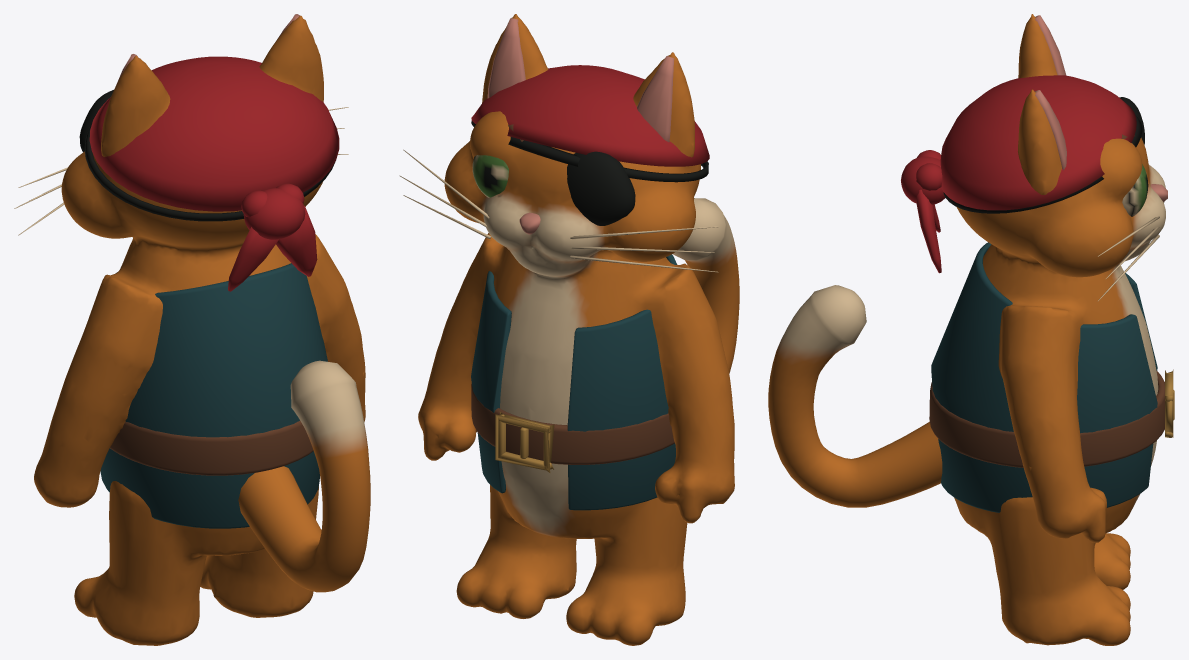
The picture shows the model from 3 angles, left to right: view 1: azimuth 30°, elevation 25°; view 2: azimuth 150°, elevation 25°; view 3: azimuth 270°, elevation 25°; orthographic projection. The views are drawn at different scales.
Bounding box in the file's own units: 0.6905 × 1.17 × 0.7821.
